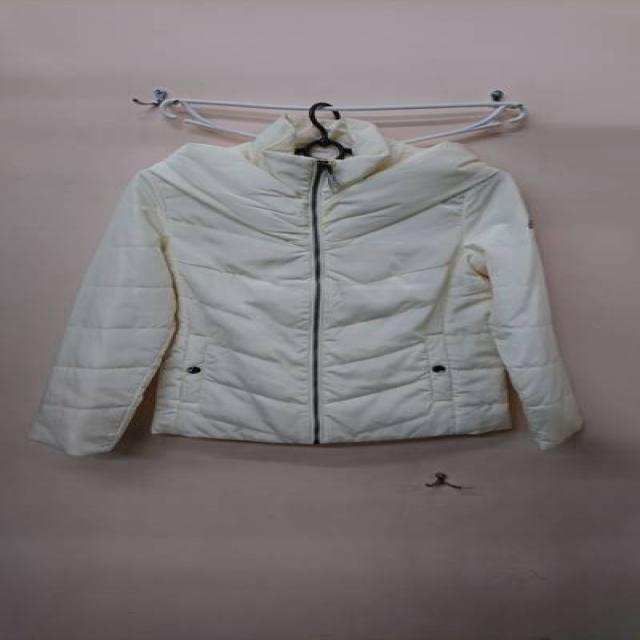Clothes -Biodegradable-: (36, 113, 591, 453)
